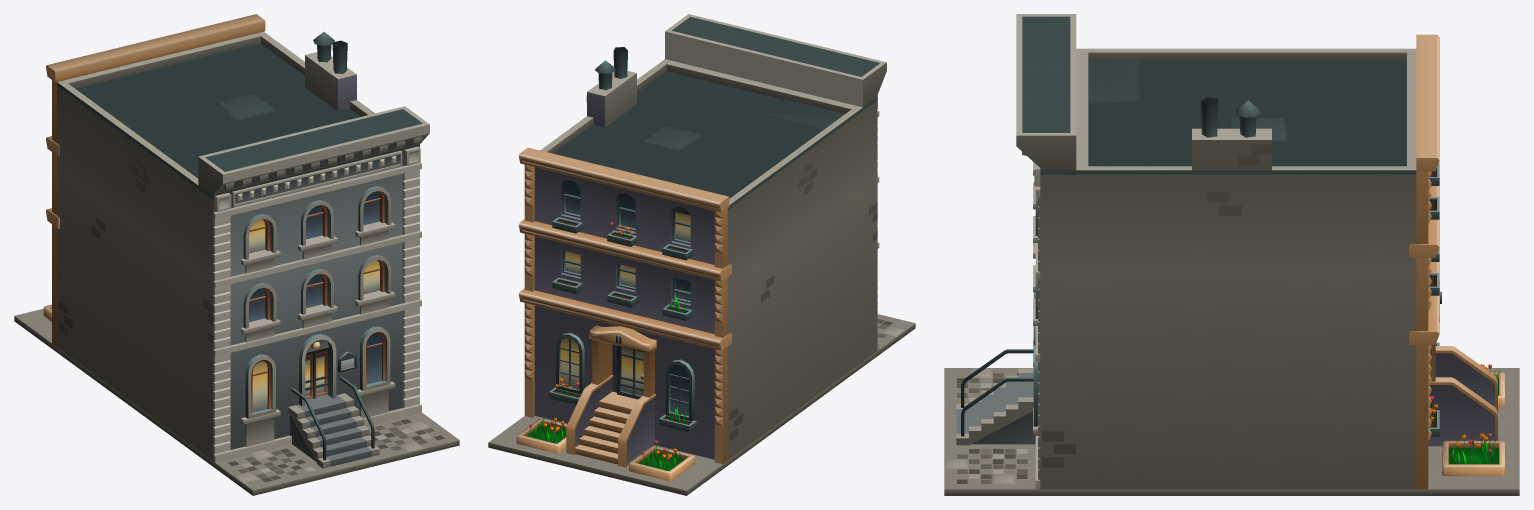
File: Brownstone_1A.fbx
3 views of the same model, side by side, from view 1: azimuth 30°, elevation 25°; view 2: azimuth 150°, elevation 25°; view 3: azimuth 270°, elevation 25° (orthographic). The views are drawn at different scales.
Parts seen in each view (by area): view 1: Brownstone_1A, Brownstone_1A_Window_Lights; view 2: Brownstone_1A, Brownstone_1A_Window_Lights; view 3: Brownstone_1A.
Boxes of the visible parts, bbox=[...] form: Brownstone_1A: bbox=[14, 14, 459, 495]; Brownstone_1A_Window_Lights: bbox=[249, 219, 379, 412]; Brownstone_1A: bbox=[488, 14, 915, 495]; Brownstone_1A_Window_Lights: bbox=[560, 212, 690, 395]; Brownstone_1A: bbox=[944, 14, 1519, 495].
Size of the model in its own units: 12.18 by 17.96 by 24.
